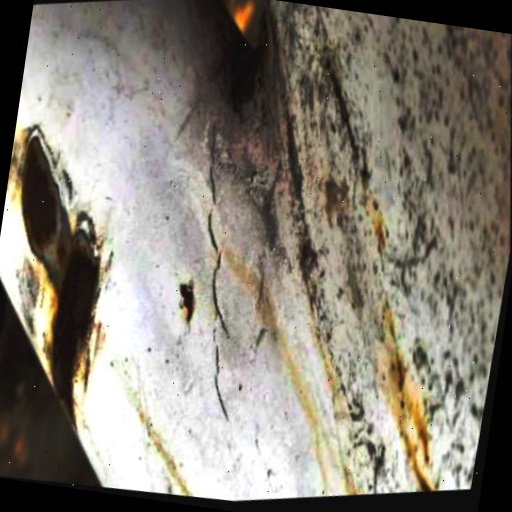crack: (125, 110, 292, 443)
